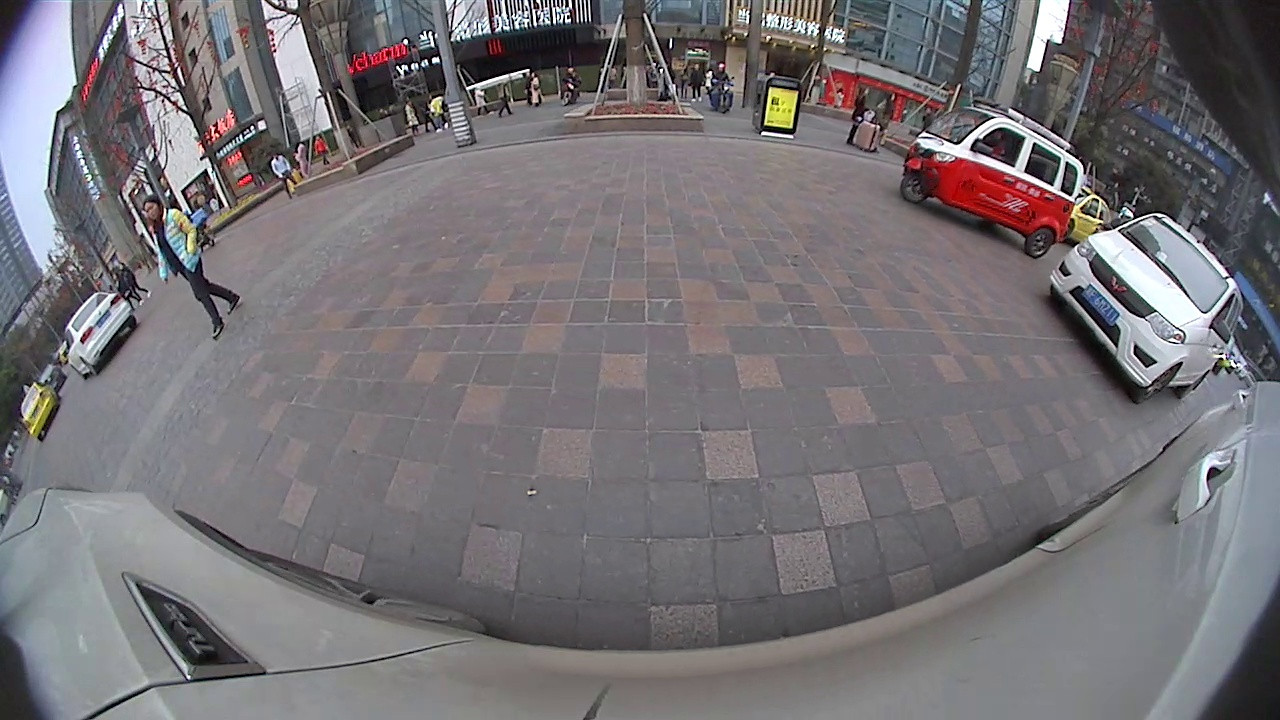car: (1047, 209, 1247, 406), (61, 287, 140, 383), (19, 379, 65, 443)
front: (898, 171, 932, 206)
person: (143, 196, 184, 334), (852, 84, 869, 146)
rear: (1025, 226, 1056, 260)
rider: (897, 98, 1086, 262)
